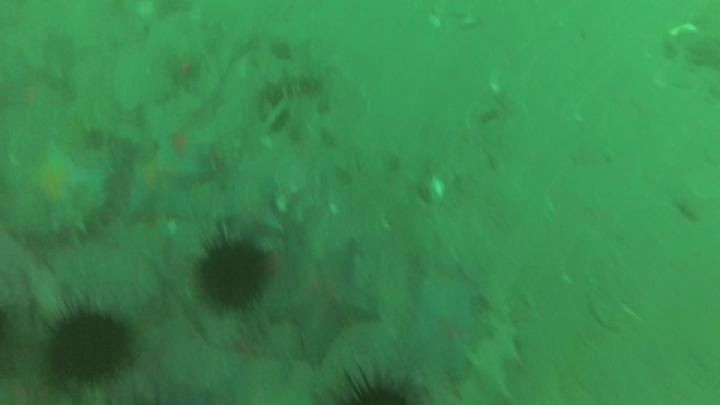echinus: (50, 313, 132, 385), (198, 242, 266, 311)
holothurian: (266, 70, 325, 104)
starfish: (272, 239, 378, 358), (401, 291, 487, 380), (121, 136, 205, 218), (28, 149, 105, 236), (216, 177, 285, 241)
